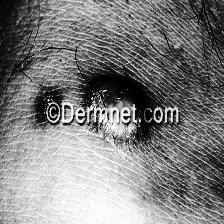Benign Marking or Mole: (87, 77, 148, 146)
